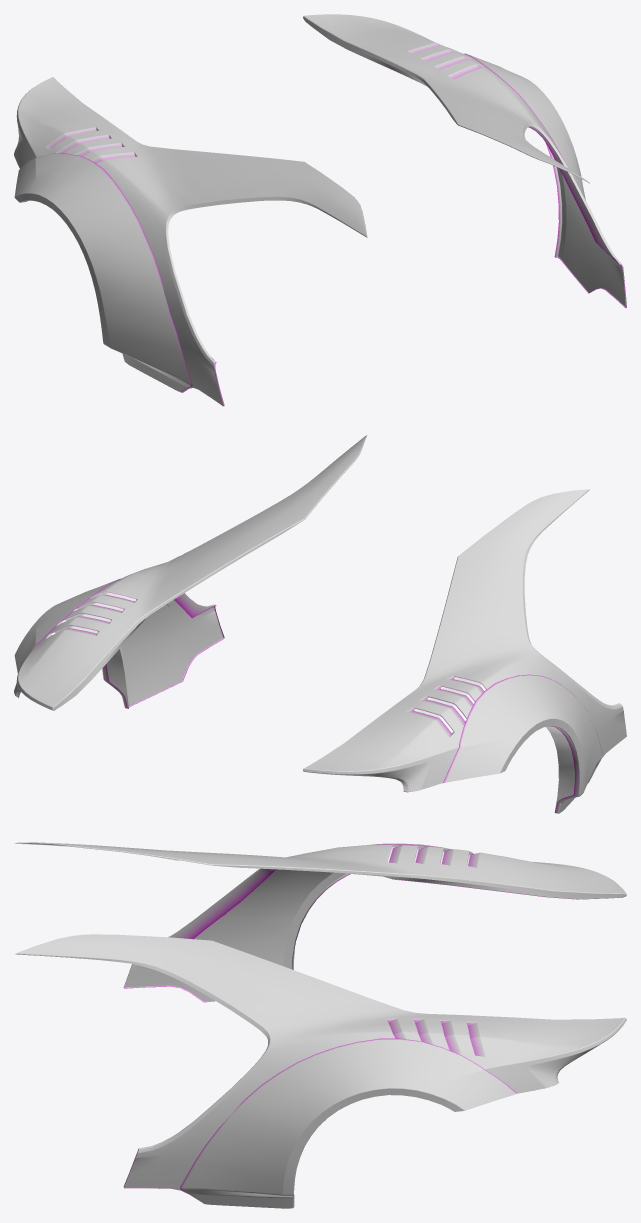
The model's file is Car_Ford_GT_2017_FendersR_SetG.fbx.
3 renders of one model, top to bottom at view 1: azimuth 30°, elevation 25°; view 2: azimuth 150°, elevation 25°; view 3: azimuth 270°, elevation 25°, orthographic.
Parts seen in each view (by area): view 1: FendersR 6; view 2: FendersR 6; view 3: FendersR 6.
Boxes of the visible parts, <box> form: FendersR 6: <box>14,14,626,406</box>; FendersR 6: <box>14,435,626,813</box>; FendersR 6: <box>15,842,626,1208</box>.
Size of the model in its own units: 2.17 by 0.8915 by 2.33.
